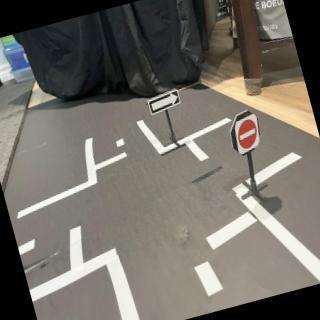sign_noentry: (230, 111, 267, 159)
sign_oneway_right: (146, 86, 184, 117)
